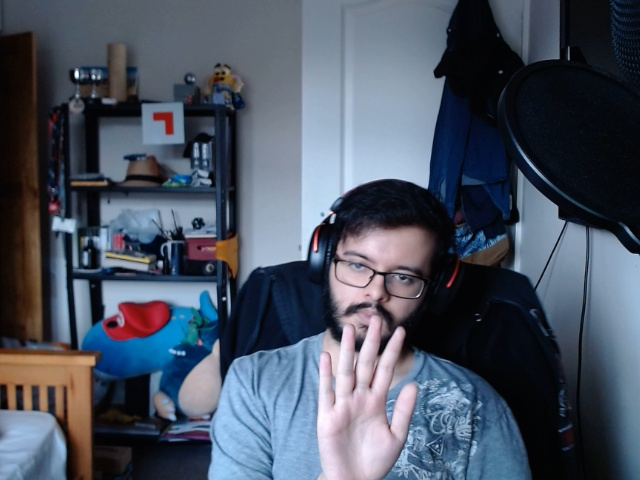Hello: (302, 310, 426, 480)
